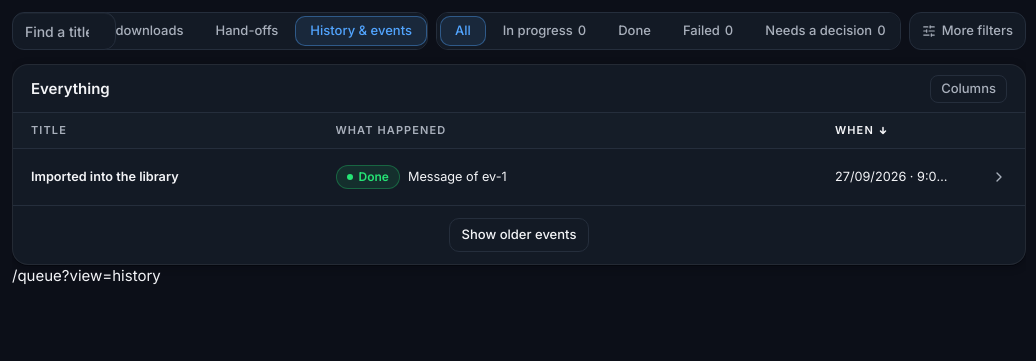
Test: Activity's history list (#1329) › when the next page fails to read while rows are showing, a banner under the table says so and Try again reads it
Click the button "Show older events".
click(519, 235)  # box [449,218,589,252]
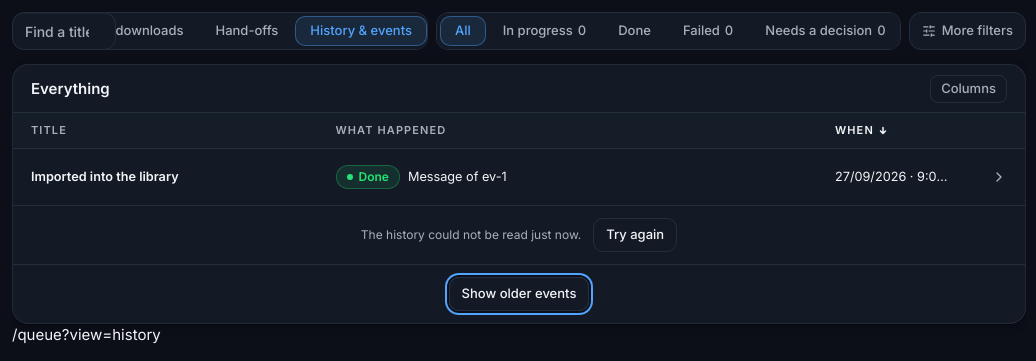
Expected: the text "Message of ev-1" is shown, [408,169,507,185]
Now the text "The history could not be read just now. Try again" is shown, box [13,205,1025,264]
Click the button "Try again".
click(635, 235)  # box [593,218,677,252]
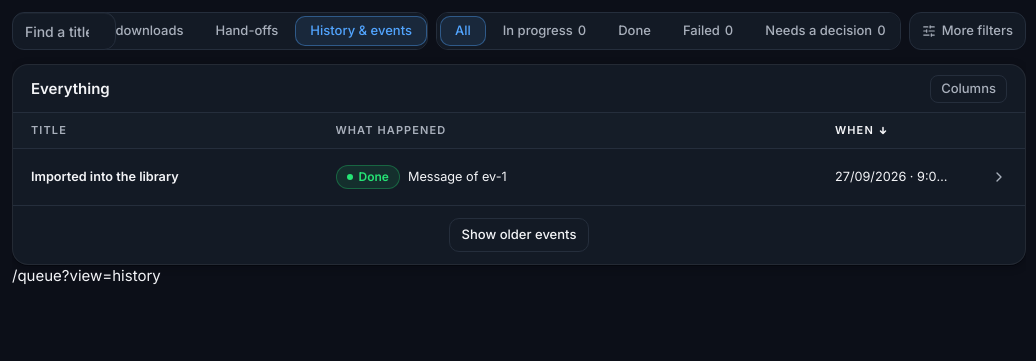
Now the text "The history could not be read just now." is gone
Click the button "Show older events".
click(519, 235)  # box [449,218,589,252]
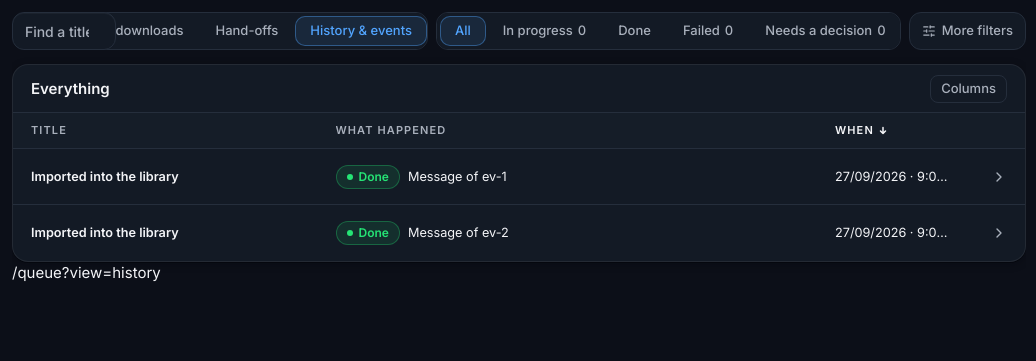
Now the text "Message of ev-2" is shown, box [408,225,509,241]
